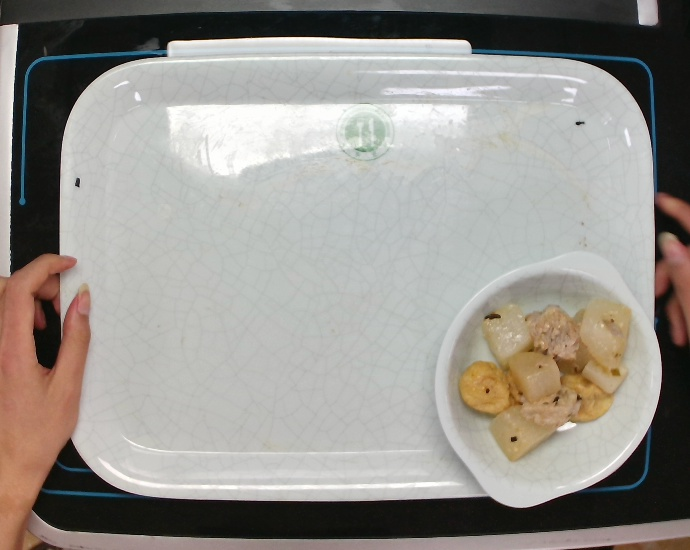JYsf-Shuang_Er_Wan: (427, 245, 665, 514)
